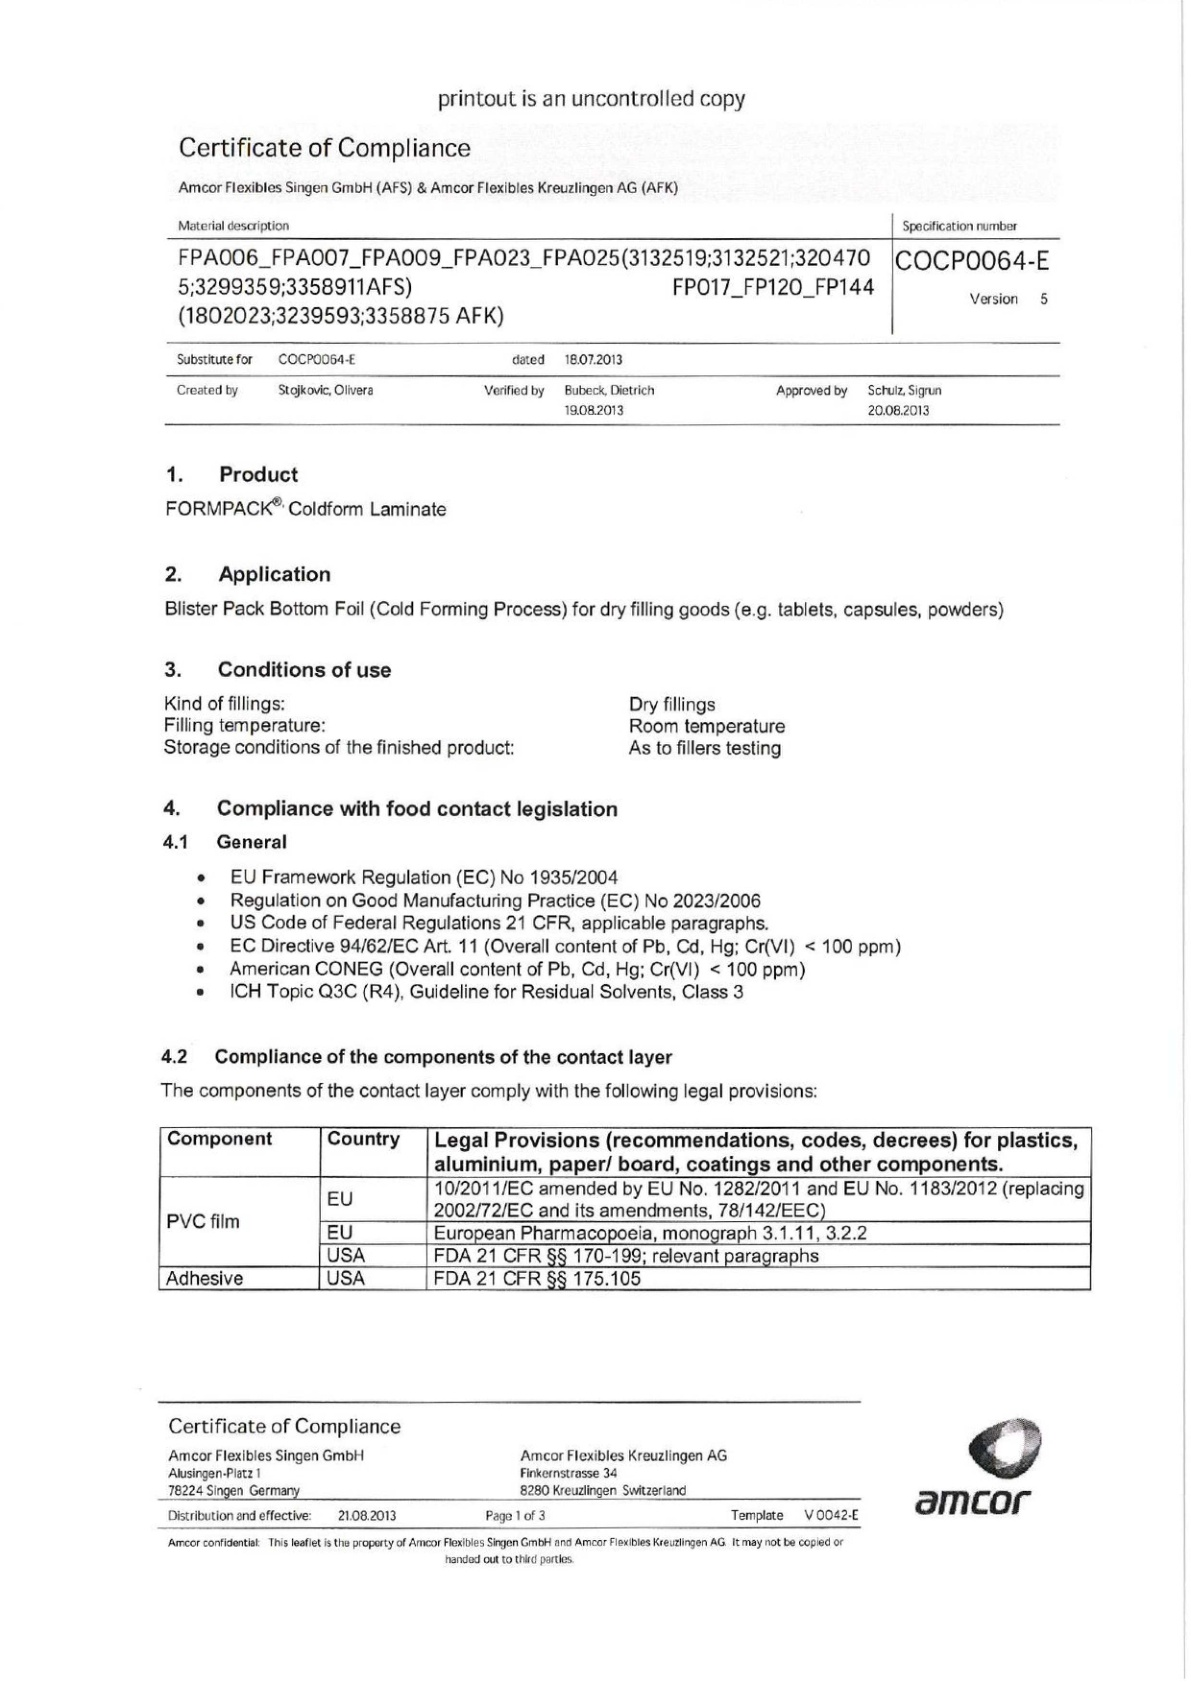merged_cells: (159, 1128, 1090, 1293)
partial_lined: (166, 201, 1061, 427), (159, 1399, 864, 1527)
